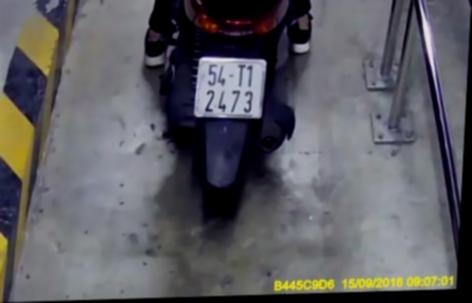License_Plate: (186, 54, 269, 122)
